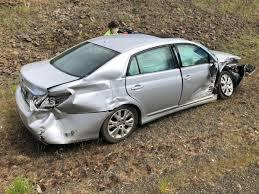Taillight-Damage: (20, 87, 81, 108)
doorouter-dent: (181, 66, 217, 105)
quaterpanel-dent: (70, 76, 126, 113)
rear-bumper-dent: (8, 106, 82, 147)
